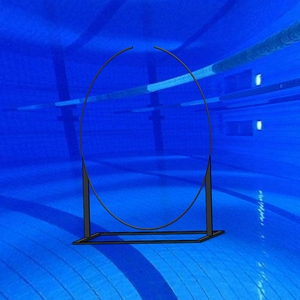circle: (72, 45, 225, 244)
